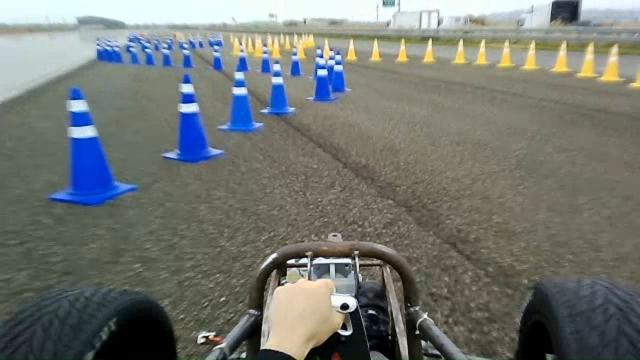blue cone: (48, 87, 137, 206), (160, 73, 224, 163), (223, 60, 264, 132), (260, 63, 296, 115), (310, 52, 338, 102)
yellow cone: (596, 43, 624, 83)
